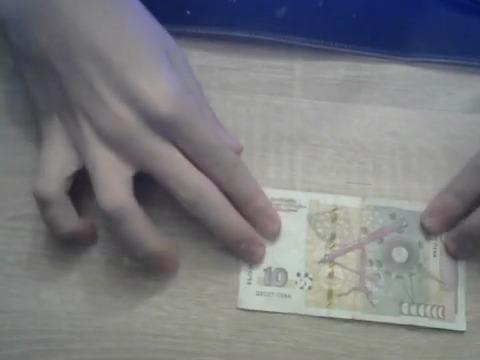10leva: (236, 188, 465, 333)
